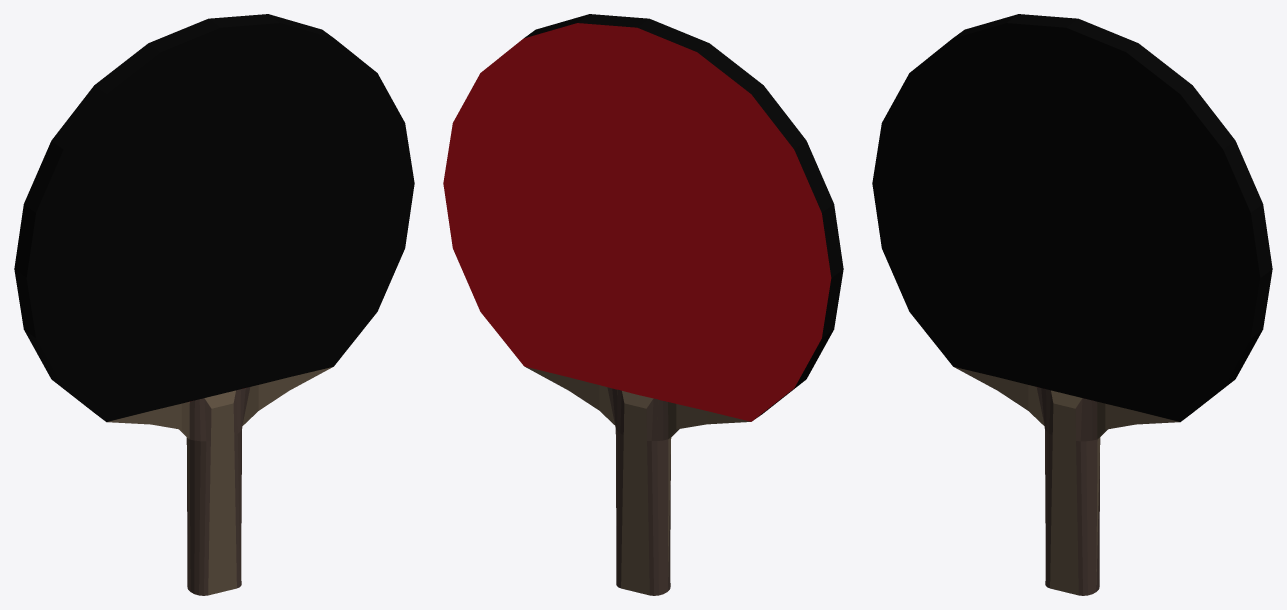
Rendered from Paddle.fbx.
3 views of the same model, side by side, from view 1: azimuth 30°, elevation 25°; view 2: azimuth 150°, elevation 25°; view 3: azimuth 330°, elevation 25° (orthographic).
Visible parts, largest first — view 1: Paddle; view 2: Paddle; view 3: Paddle.
Part boxes in pixels (x1,y1,x2,y2): Paddle: (14, 14, 414, 595); Paddle: (443, 14, 843, 595); Paddle: (872, 14, 1272, 595).
Size of the model in its own units: 200 by 277 by 14.42.
